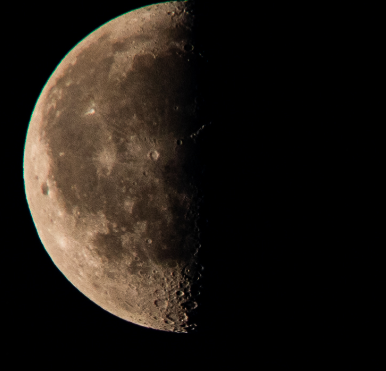crater: (69, 134, 124, 181), (131, 130, 169, 172), (170, 34, 206, 59), (82, 102, 104, 120), (40, 175, 55, 201), (165, 97, 184, 116), (149, 296, 172, 310), (162, 257, 181, 271), (173, 131, 185, 150), (173, 285, 189, 299), (159, 6, 178, 17), (123, 34, 137, 46), (143, 235, 155, 247), (133, 254, 143, 264)
